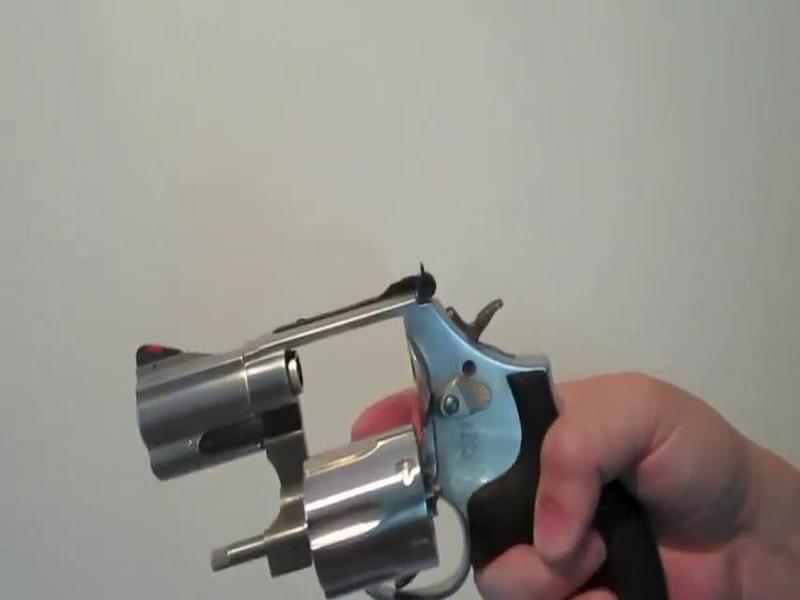Revolver: (132, 252, 669, 600)
